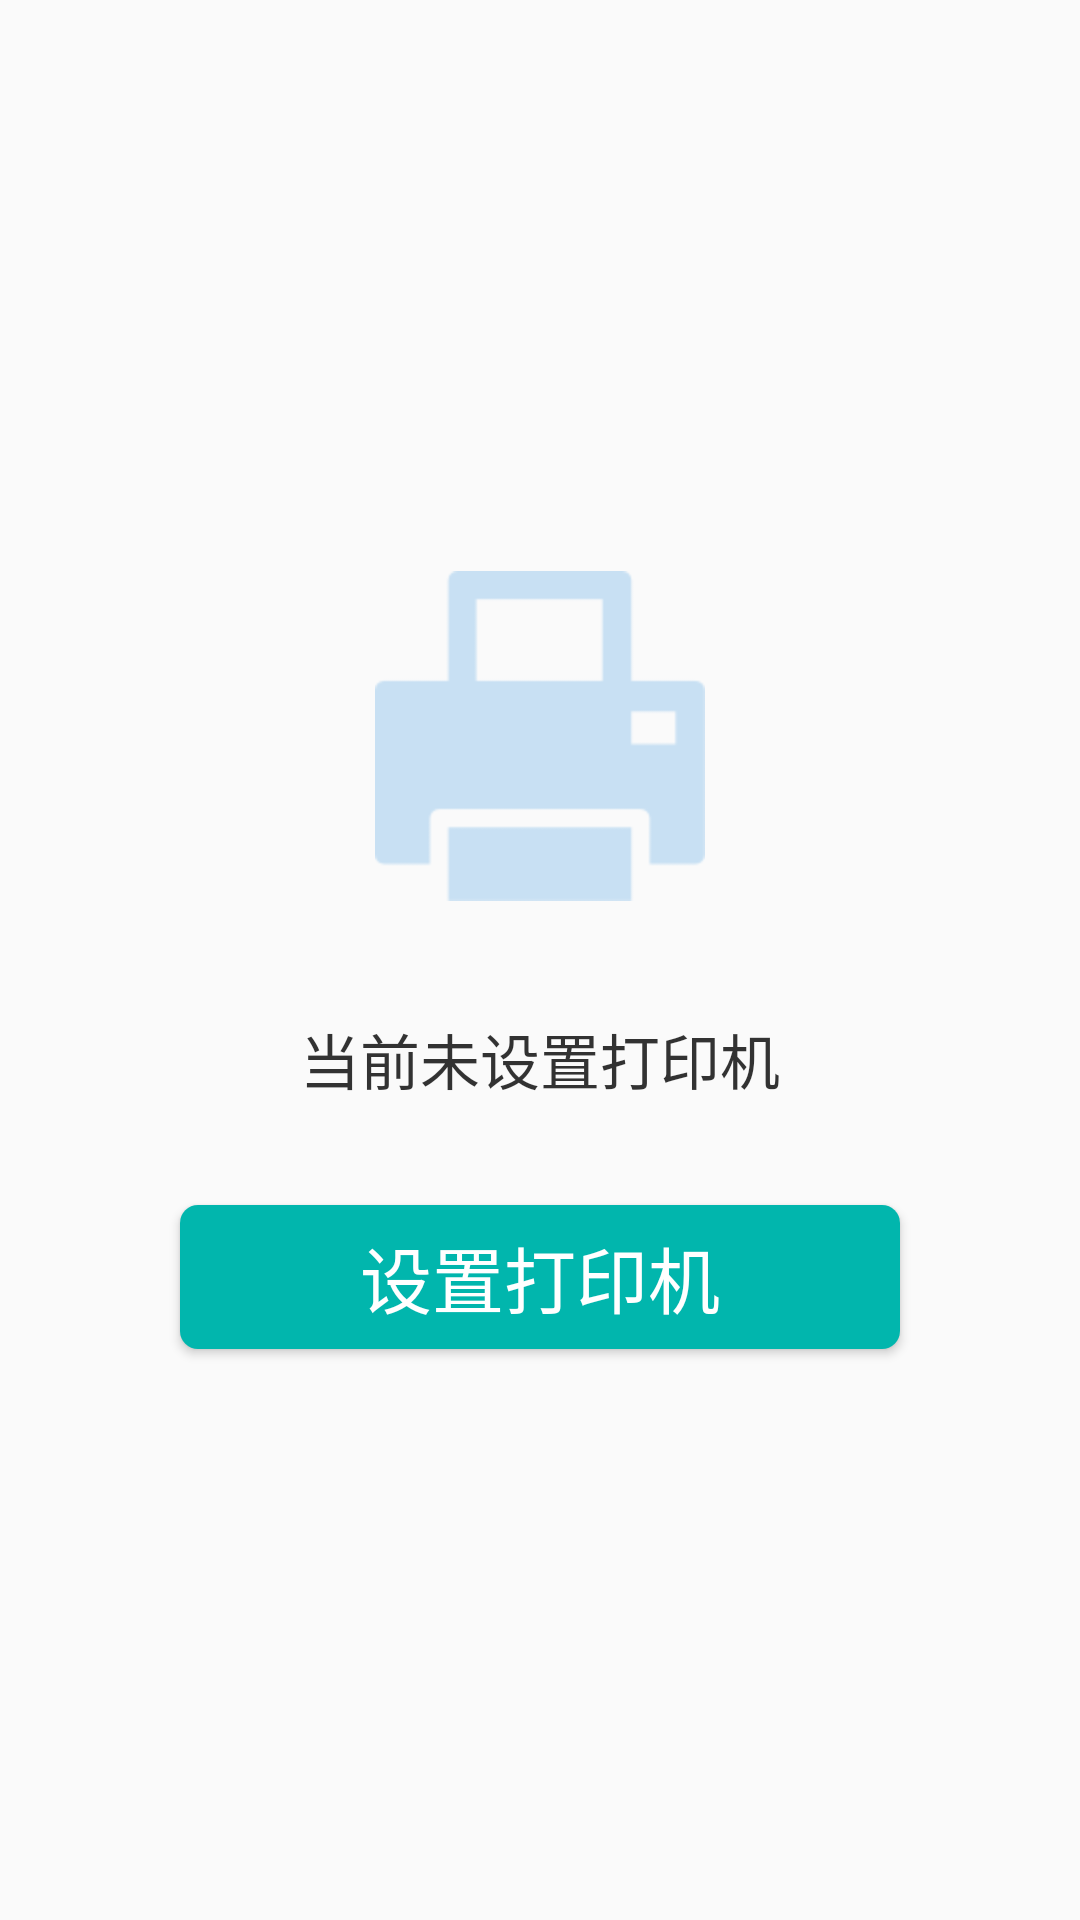

Locate icon controls on the screen. Image size 1080 × 1920, boxes as (x1, y1, x2, y2).
print: (375, 571, 705, 901)
